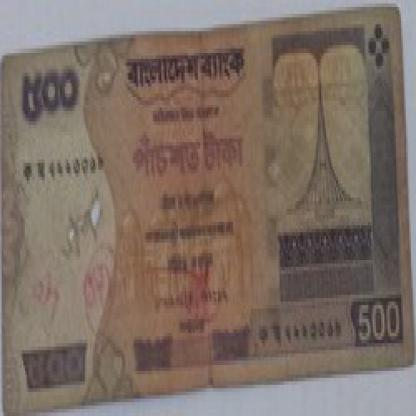500 taka: (122, 118, 264, 194), (13, 45, 98, 139)
currency: (1, 14, 408, 402)
